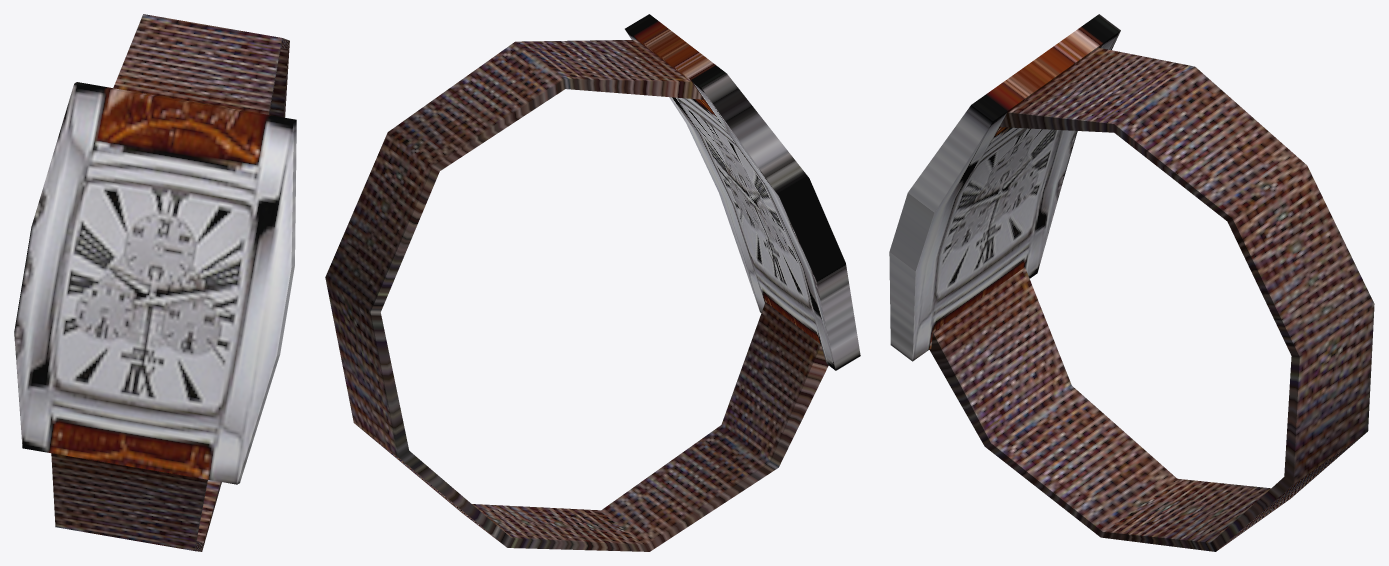
File: watch4.FBX
3 renders of one model, left to right at view 1: azimuth 30°, elevation 25°; view 2: azimuth 150°, elevation 25°; view 3: azimuth 270°, elevation 25°, orthographic. The views are drawn at different scales.
Visible parts, largest first — view 1: Loft28; view 2: Loft28; view 3: Loft28.
Boxes of the visible parts, x1,y1,x2,y2 form: Loft28: (14, 14, 296, 551); Loft28: (325, 14, 860, 551); Loft28: (889, 14, 1374, 551).
Bounding box in the file's own units: 28.45 × 33.02 × 31.07.
